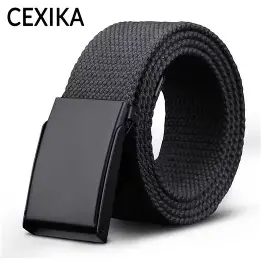sabuk_ada: (19, 21, 244, 237)
